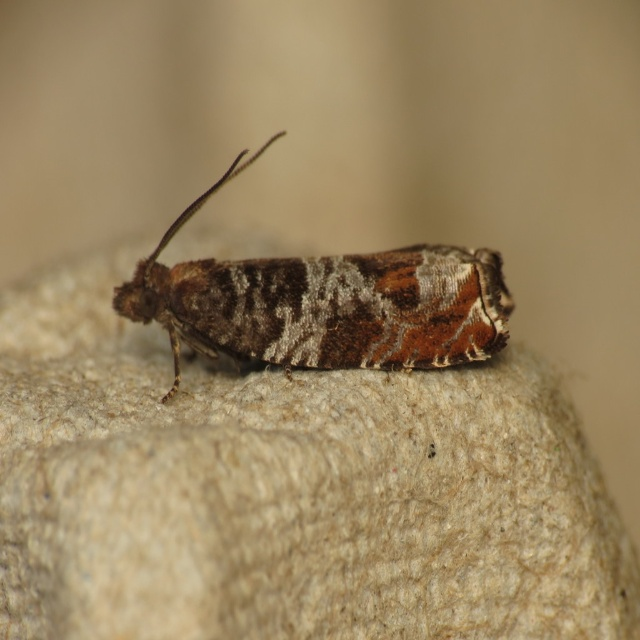Moths and butterflies: (112, 129, 516, 406)
